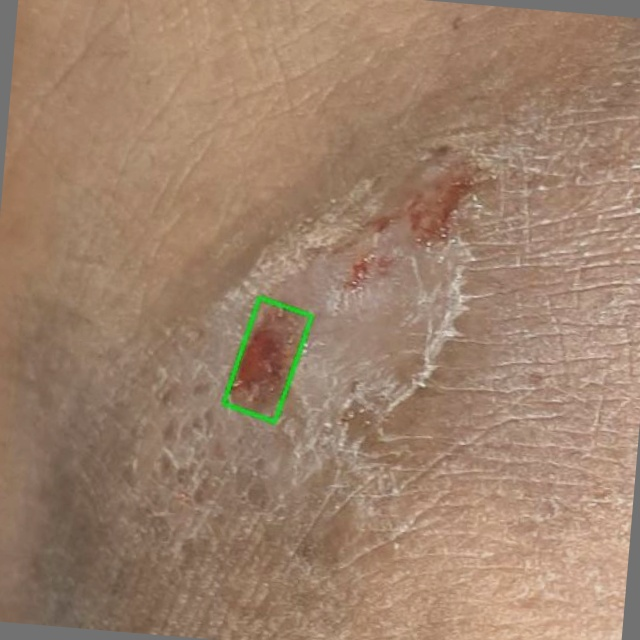Contact Dermatitis: (223, 297, 312, 421)
